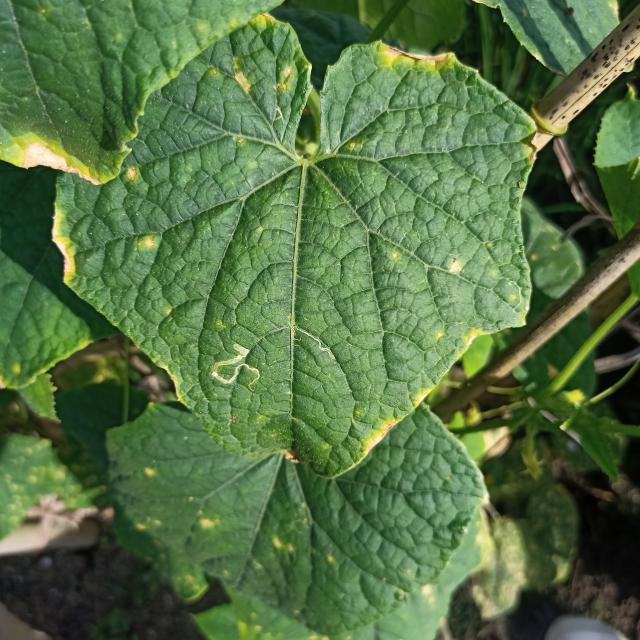disease_cucumber: (228, 60, 294, 104), (436, 322, 488, 353), (446, 256, 467, 276), (137, 231, 156, 251), (123, 165, 140, 184)
